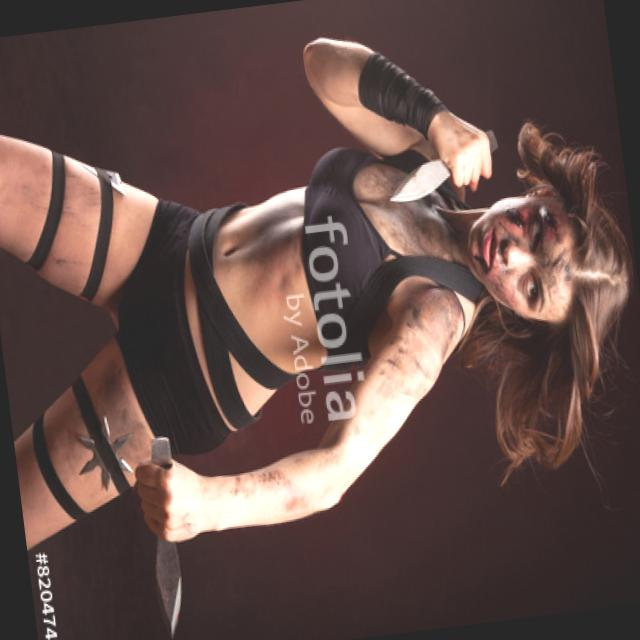knife: (376, 123, 488, 207)
